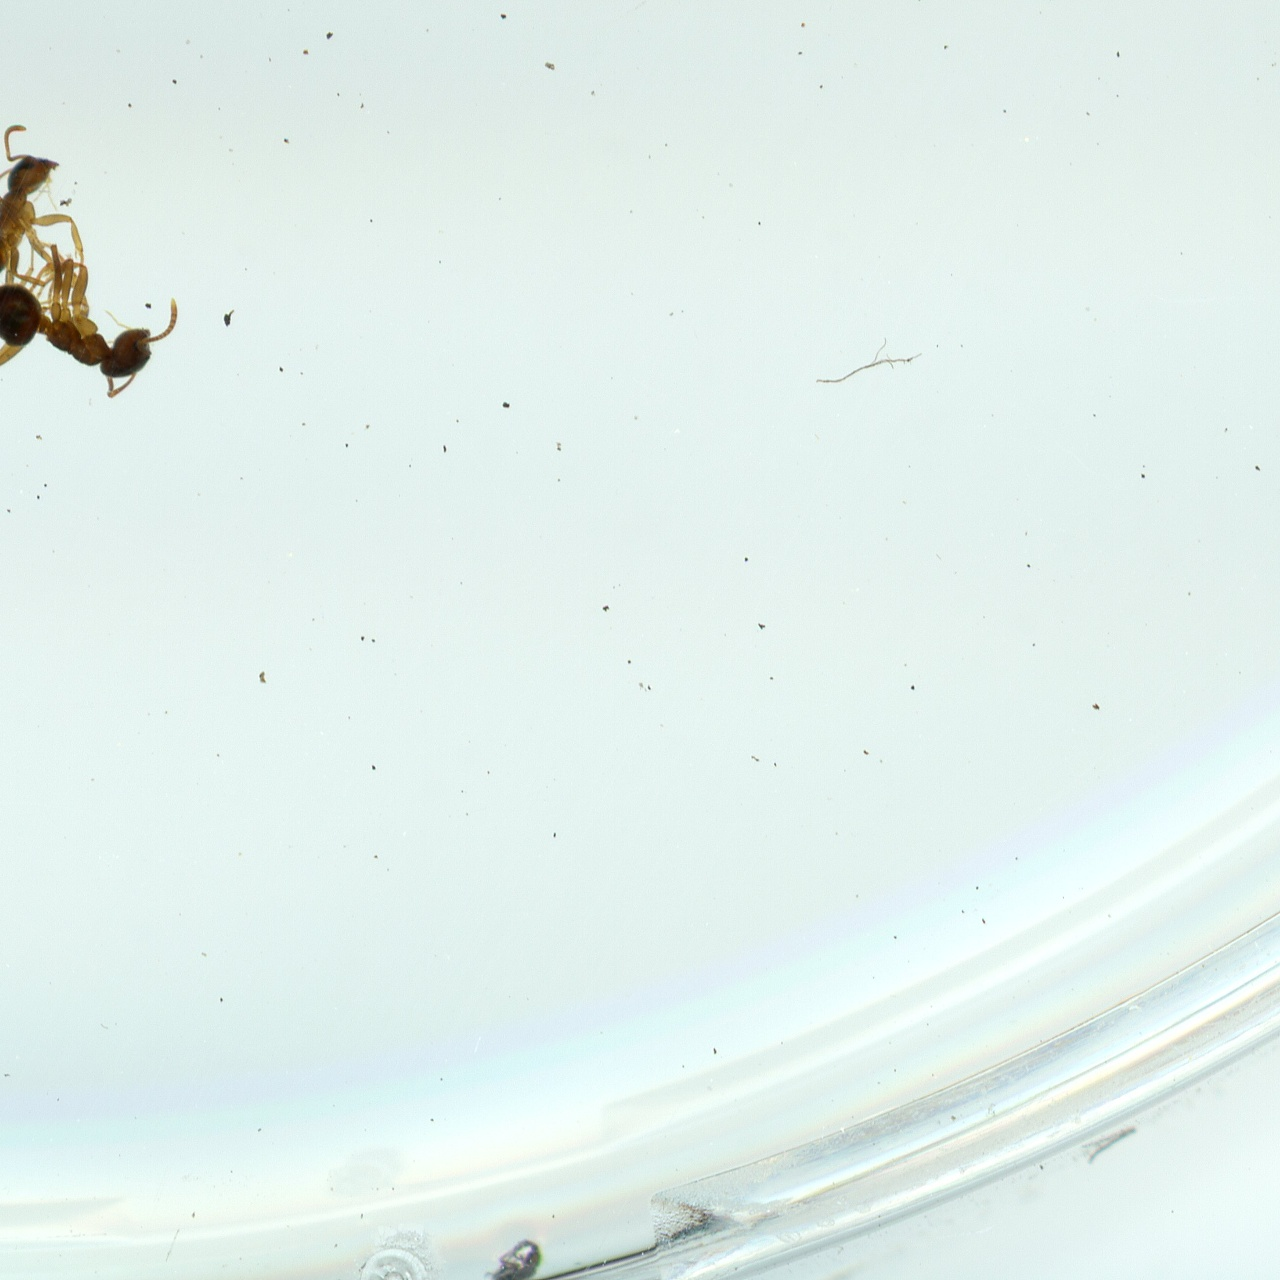arthropod: (0, 256, 183, 397), (0, 121, 74, 288)
